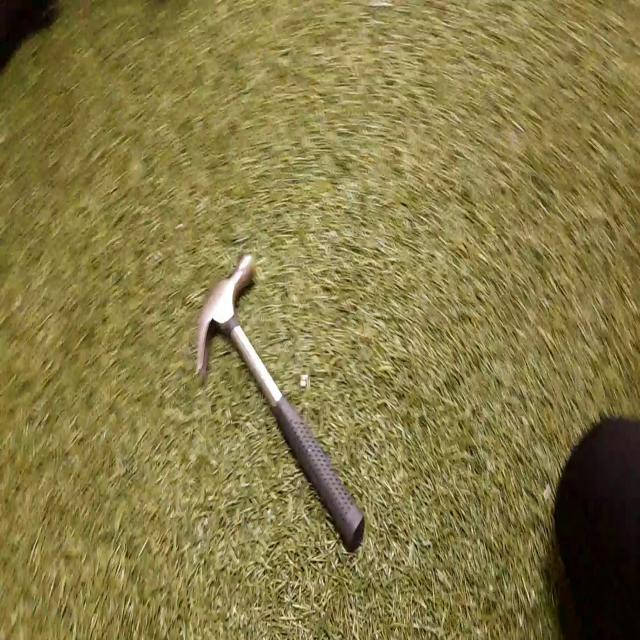hammer: (195, 250, 367, 549)
